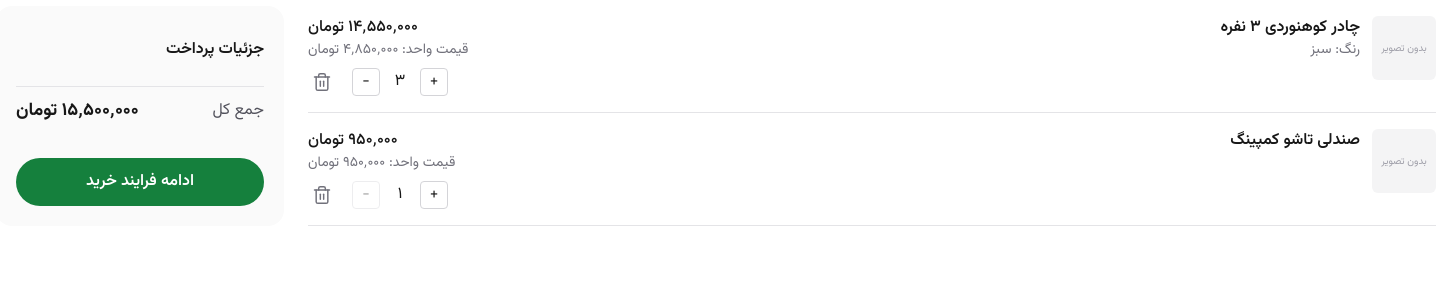
Test: CartPageContent › shows a stock-conflict error attached to the row that caused it, and recovers on the next attempt
Expected: the link "چادر کوهنوردی ۳ نفره" is shown, [1221,15,1360,40]
Click the button named "افزایش تعداد چادر کوهنوردی ۳ نفره". click: (434, 82)
box: [420,68,448,96]
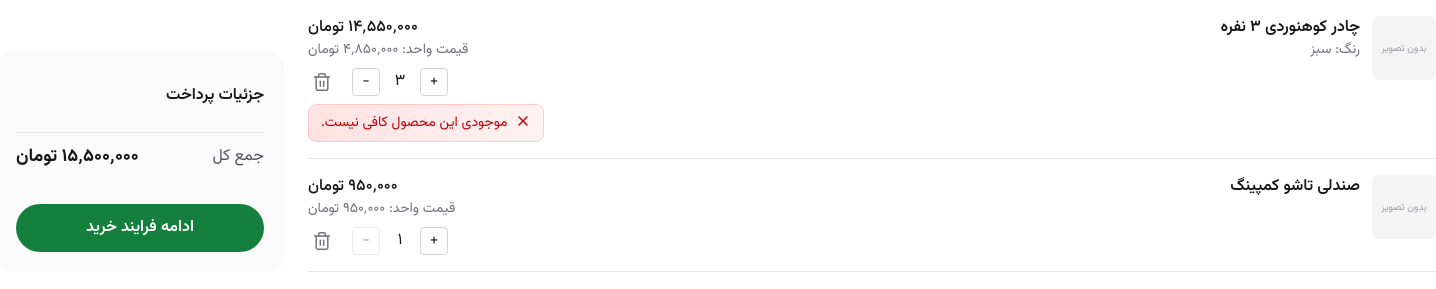
Expected: the text "۳" is shown, [395,69,405,94]
Result: the message reads "موجودی این محصول کافی نیست." at [321,112,507,134]
Click the button named "افزایش تعداد چادر کوهنوردی ۳ نفره". click: (434, 82)
box: [420,68,448,96]
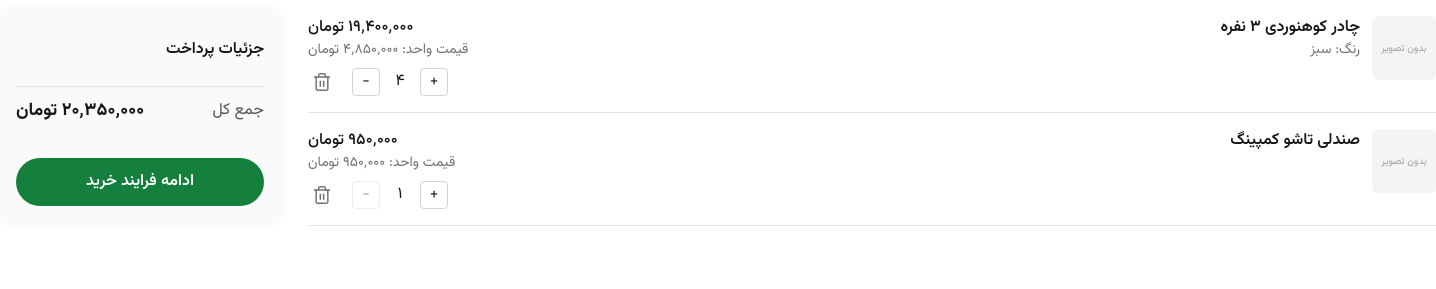
Result: the text "۴" is shown at [395,69,404,94]
Result: the message "موجودی این محصول کافی نیست." is gone
